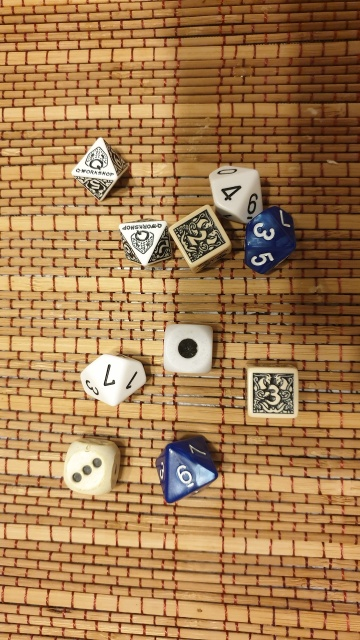d10-3: (243, 206, 302, 276)
d10-4: (208, 159, 265, 227)
d10-6: (147, 433, 225, 508)
d10-7: (72, 349, 151, 406)
d6-1: (157, 314, 215, 377)
d6-3: (57, 436, 130, 501)
d6p-2: (165, 202, 235, 272)
d6p-3: (240, 362, 305, 423)
d8p-8: (71, 134, 132, 203), (112, 214, 176, 270)
